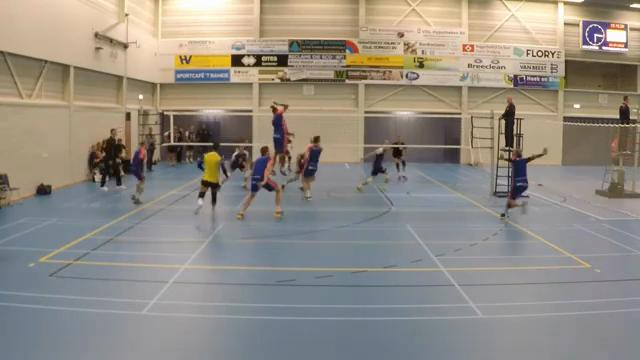Attack: (262, 93, 296, 177)
Player: (500, 148, 547, 217), (237, 146, 282, 218), (195, 143, 228, 214), (357, 140, 389, 191), (301, 136, 322, 199), (271, 101, 288, 175), (131, 141, 146, 204), (230, 147, 250, 188), (282, 153, 304, 189), (391, 136, 406, 180), (286, 133, 295, 173)
ball: (276, 70, 288, 82)
